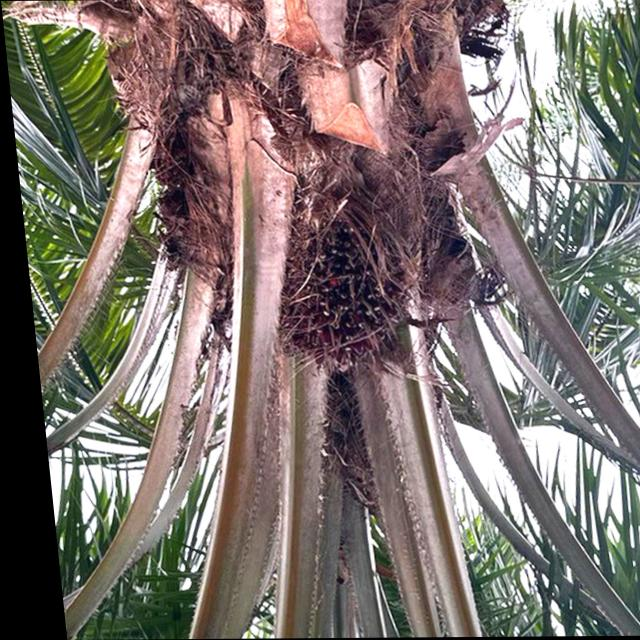ripe: (248, 217, 414, 388)
